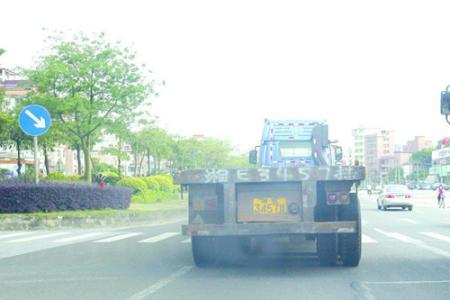smoke: (188, 231, 320, 277)
